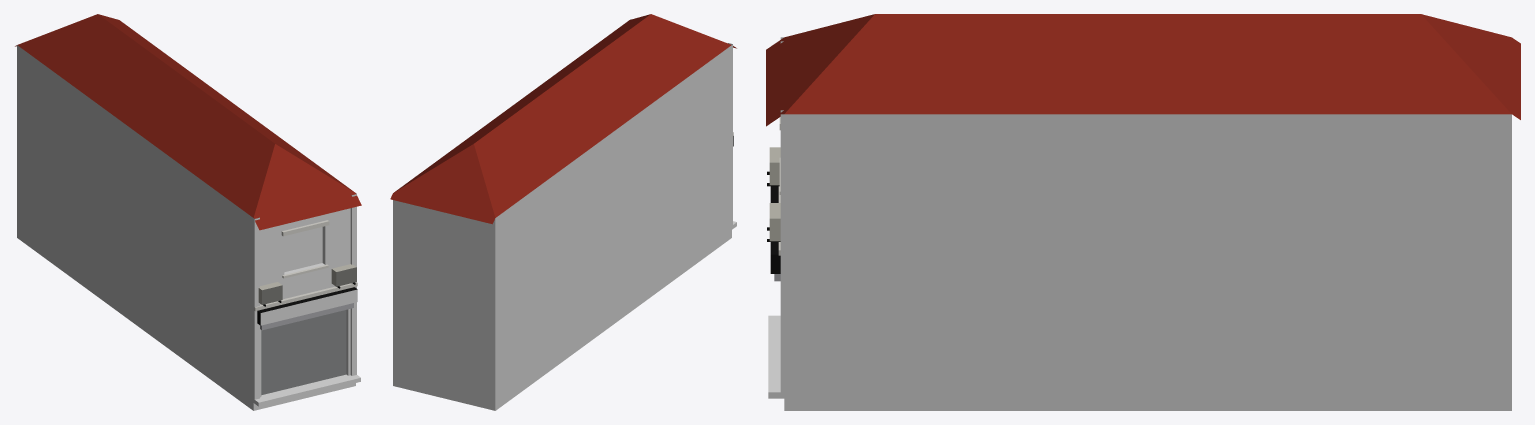
3 views of the same model, side by side, from view 1: azimuth 30°, elevation 25°; view 2: azimuth 150°, elevation 25°; view 3: azimuth 270°, elevation 25° (orthographic). The views are drawn at different scales.
Visible parts, largest first — view 1: TH_D16_C_10_LOD0; view 2: TH_D16_C_10_LOD0; view 3: TH_D16_C_10_LOD0.
Boxes of the visible parts, box(x1,y1,x2,y2) form: TH_D16_C_10_LOD0: box(15, 14, 361, 410); TH_D16_C_10_LOD0: box(390, 14, 736, 410); TH_D16_C_10_LOD0: box(766, 14, 1520, 410).
Size of what is drawn, in the model's own units: 4 by 8.7 by 16.6.
